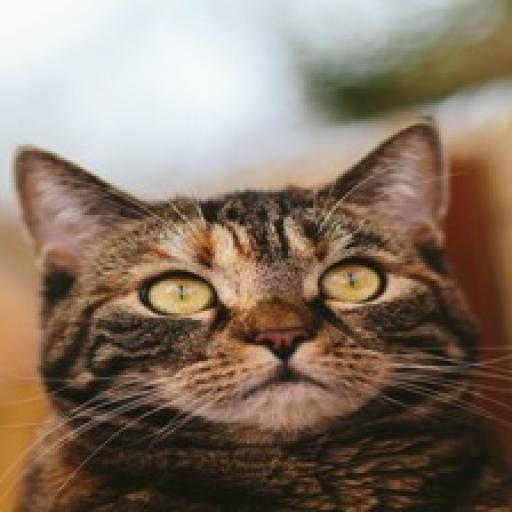cat: (0, 116, 491, 512)
